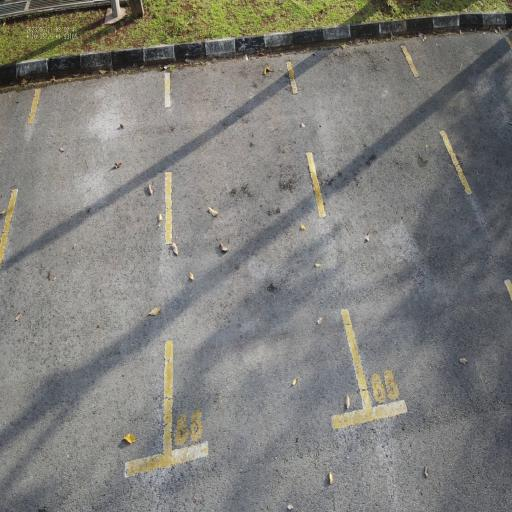Empty: (157, 53, 379, 473)
